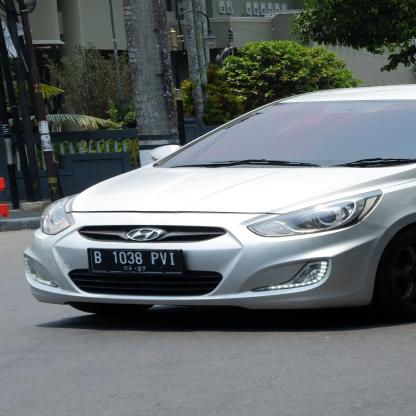Plat-Nomor: (88, 245, 185, 276)
